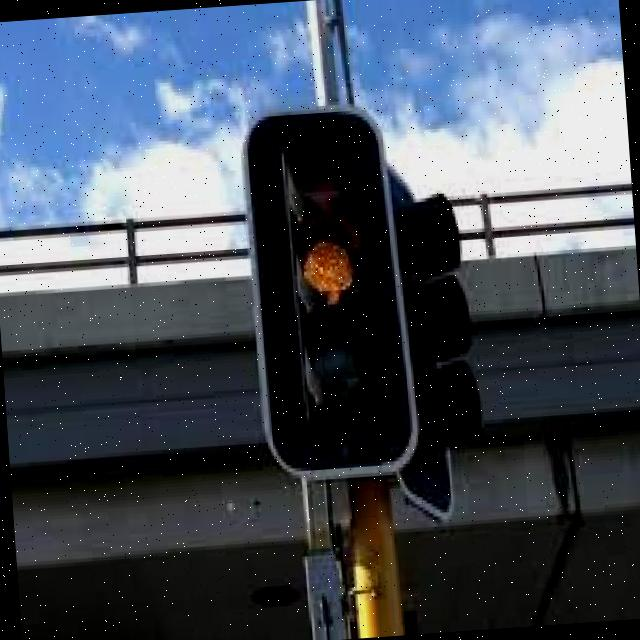yellow_light: (283, 142, 381, 419)
